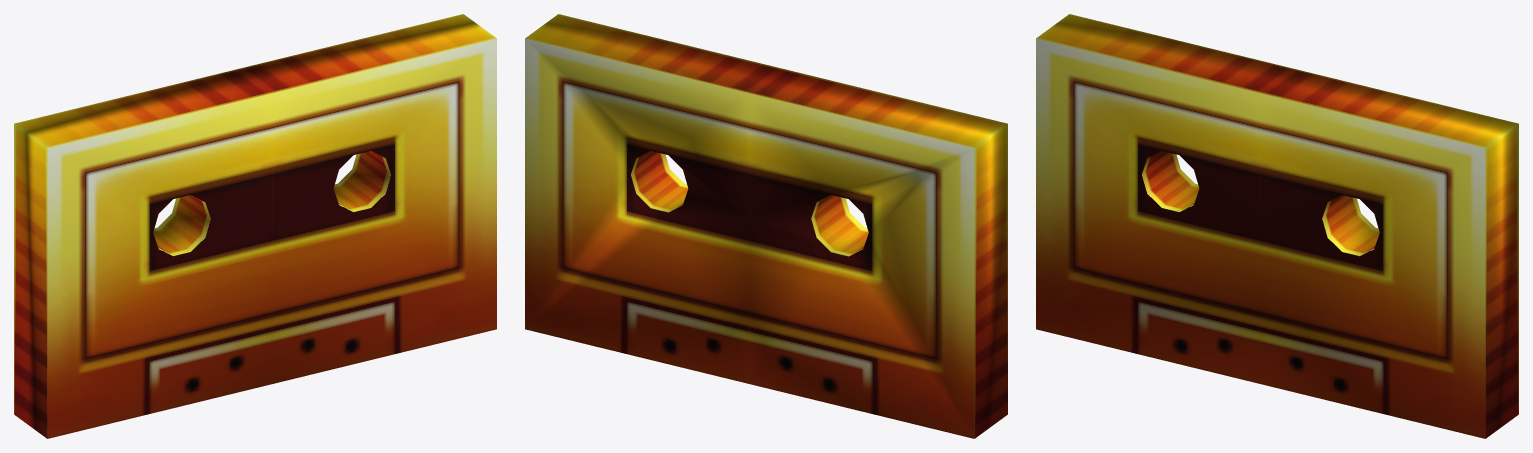
File: tape_black.glb
The picture shows the model from 3 angles, left to right: view 1: azimuth 30°, elevation 25°; view 2: azimuth 150°, elevation 25°; view 3: azimuth 330°, elevation 25°; orthographic projection.
Parts seen in each view (by area): view 1: tape_black; view 2: tape_black; view 3: tape_black.
Part boxes in pixels (<box>): tape_black: <box>14,14,496,438</box>; tape_black: <box>525,14,1007,438</box>; tape_black: <box>1036,14,1518,438</box>.
Size of the model in its own units: 5.52 by 3.41 by 0.7403.
1 material, 1 textured.
